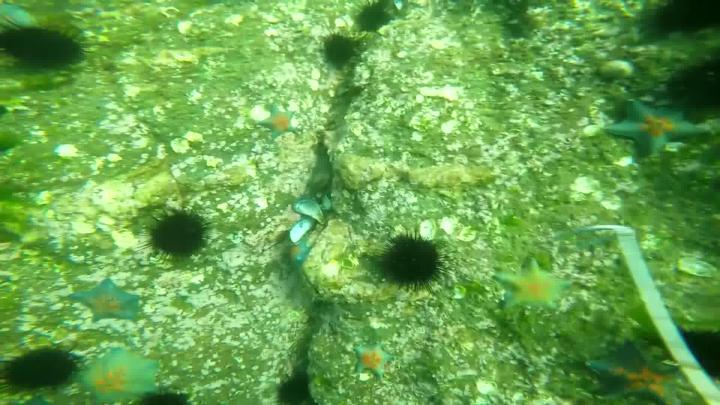echinus: (377, 232, 446, 293), (1, 22, 86, 69), (3, 343, 81, 391), (149, 206, 205, 262), (323, 27, 358, 64), (358, 2, 392, 30)
scallop: (678, 257, 717, 282), (292, 201, 331, 225), (292, 221, 320, 242), (573, 177, 602, 194), (420, 219, 440, 243), (440, 216, 459, 236), (598, 194, 623, 209)
starfish: (582, 338, 692, 405), (604, 97, 709, 160), (80, 347, 159, 405), (496, 262, 576, 317), (71, 283, 144, 319), (351, 338, 396, 382), (261, 105, 301, 139)
